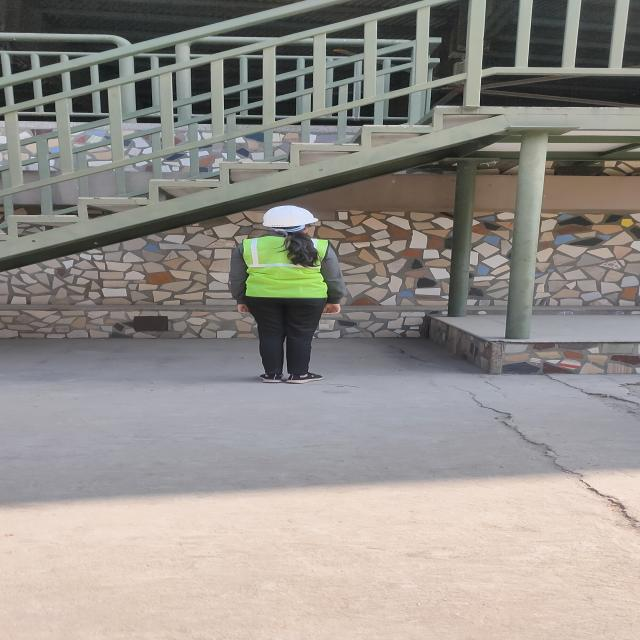safe: (232, 205, 344, 384)
